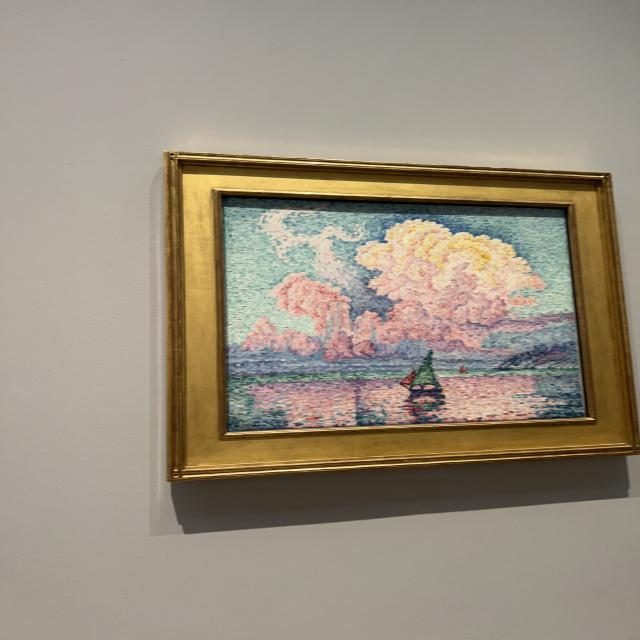sunrise: (226, 199, 585, 429)
